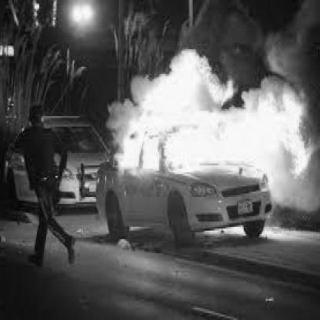Fire: (107, 50, 301, 186)
